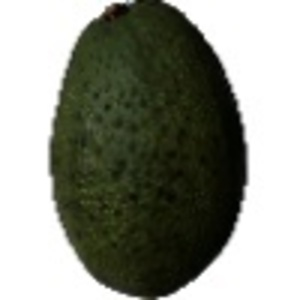abacate: (47, 2, 248, 299)
